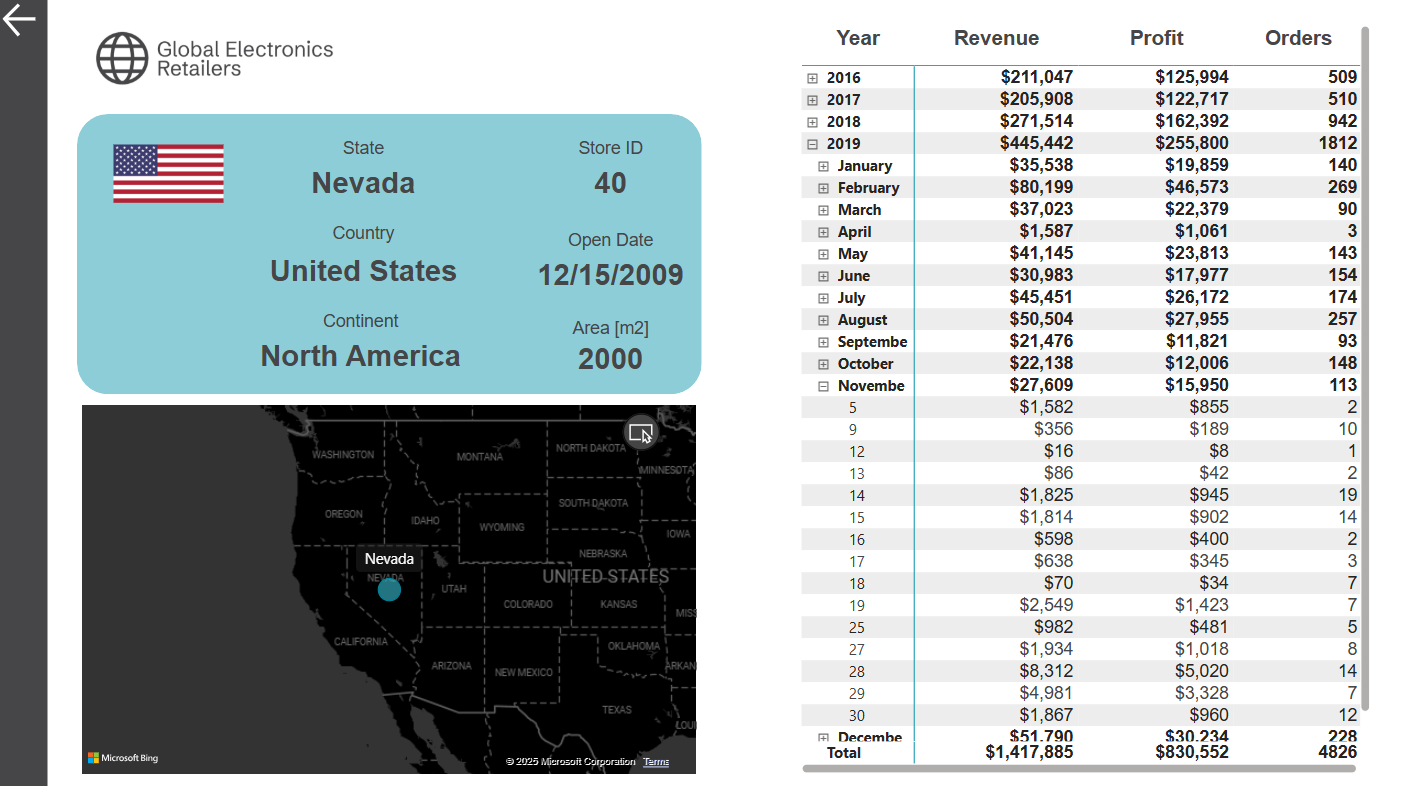

What the dashboard file says about the page in this screenshot:
{"tool":"powerbi","page":{"name":"Drill Through Page","canvas":[1280,720],"ordinal":4},"visuals":[{"type":"shape","box":[71.7,105,568.3,255],"z":0},{"type":"shape","title":"Left navi background","box":[0,0,45,720],"z":1000},{"type":"image","box":[45,0,303.3,105],"z":2000},{"type":"card","title":"Store ID","fields":{"Values":["Max(dim_stores.store_surr_id)"]},"box":[473.3,128.3,166.7,61.7],"z":3000},{"type":"multiRowCard","fields":{"Values":["dim_stores.store_country_flag"]},"box":[100,128.3,125,98.3],"z":4000},{"type":"card","title":"State","fields":{"Values":["Min(dim_stores.store_state)"]},"box":[236.7,128.3,191.7,61.7],"z":5000},{"type":"card","title":"Country","fields":{"Values":["Min(dim_stores.store_country)"]},"box":[236.7,205,191.7,68.3],"z":6000},{"type":"card","title":"Continent","fields":{"Values":["Min(dim_stores.store_continent)"]},"box":[196.7,285,266.7,61.7],"z":7000},{"type":"card","title":"Open Date","fields":{"Values":["Min(dim_stores.store_open_dt)"]},"box":[473.3,211.7,166.7,61.7],"z":8000},{"type":"card","title":"Area [m2]","fields":{"Values":["Min(dim_stores.store_square_meters)"]},"box":[473.3,291.7,166.7,55],"z":9000},{"type":"map","fields":{"Category":["dim_stores.store_state"],"Size":["Measure Table.Total Profit"]},"box":[71.7,365,568.3,345],"z":10000},{"type":"pivotTable","fields":{"Rows":["dim_dates.date_year Hierarchy.date_year","dim_dates.date_year Hierarchy.date_month_name","dim_dates.date_year Hierarchy.date_day_of_month_number"],"Values":["Measure Table.Total Revenue","Measure Table.Total Profit","Measure Table.Total Orders"]},"box":[725,20,526.7,690],"z":11000},{"type":"actionButton","box":[0,0,100,40],"z":12000}]}

Visuals, with their boxes on the page's 1280x720 design canvas (x1, y1, x2, y2). These are canvas units, not pixel positions in the 1404x786 screenshot, which may show the page scaled, cropped or inside an application window:
shape: 72,105,640,360
"Left navi background" shape: 0,0,45,720
image: 45,0,348,105
"Store ID" card: 473,128,640,190
multiRowCard - dim_stores.store_country_flag: 100,128,225,227
"State" card: 237,128,428,190
"Country" card: 237,205,428,273
"Continent" card: 197,285,463,347
"Open Date" card: 473,212,640,273
"Area [m2]" card: 473,292,640,347
map - dim_stores.store_state x Measure Table.Total Profit: 72,365,640,710
pivotTable - dim_dates.date_year Hierarchy.date_year x dim_dates.date_year Hierarchy.date_month_name: 725,20,1252,710
actionButton: 0,0,100,40
